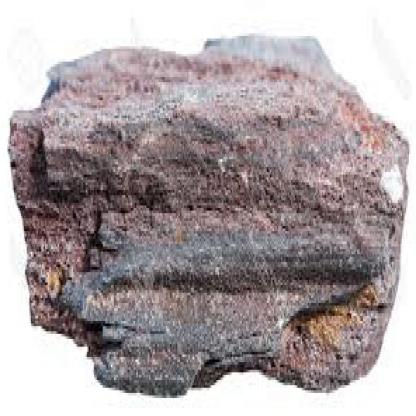Metamorphic_Quartize: (8, 18, 409, 403)
